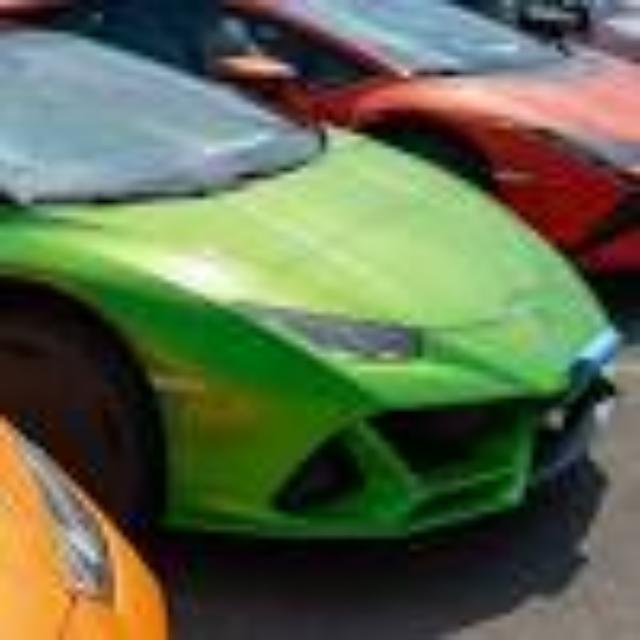ferrari: (0, 13, 620, 550), (0, 1, 640, 318), (0, 414, 174, 640)
